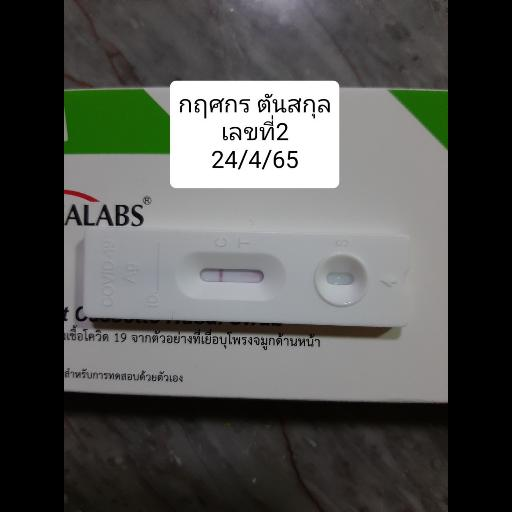Neg: (83, 229, 410, 328)
